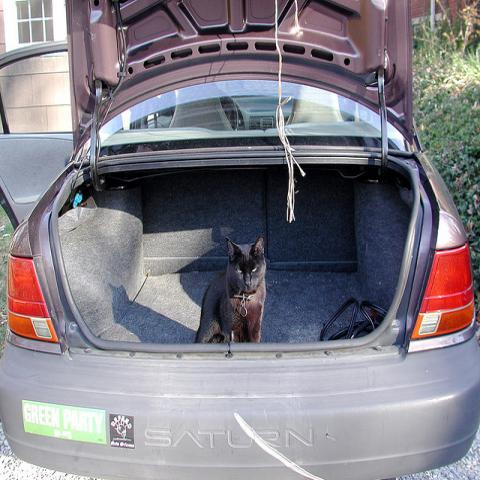car: (0, 0, 480, 475)
